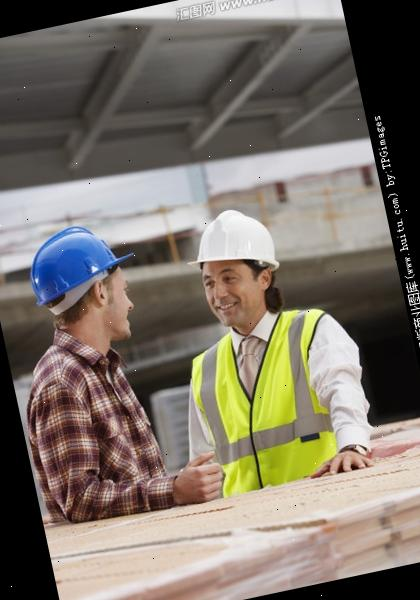helmet: (21, 220, 130, 313), (186, 202, 281, 284)
no_wear: (20, 336, 174, 528)
wear: (179, 305, 364, 496)
